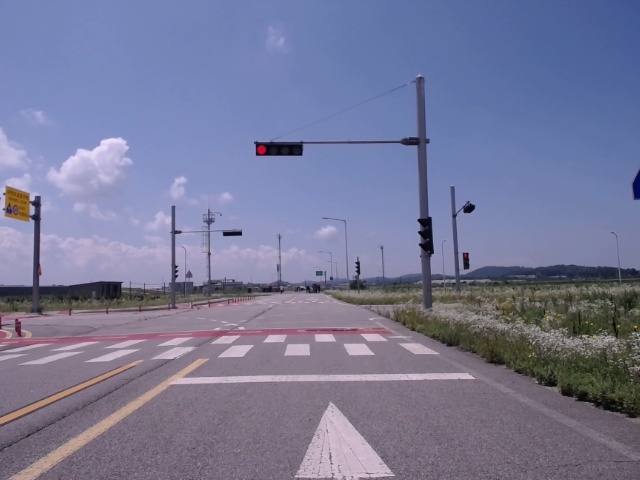red_4: (256, 143, 303, 156)
